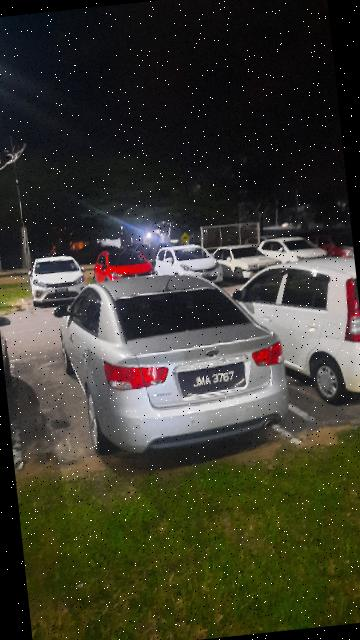License_Plate: (175, 361, 249, 398)
car: (53, 263, 293, 462), (229, 254, 360, 412), (26, 254, 90, 310), (155, 241, 225, 292), (213, 241, 286, 286), (92, 246, 158, 295), (259, 235, 330, 272)
